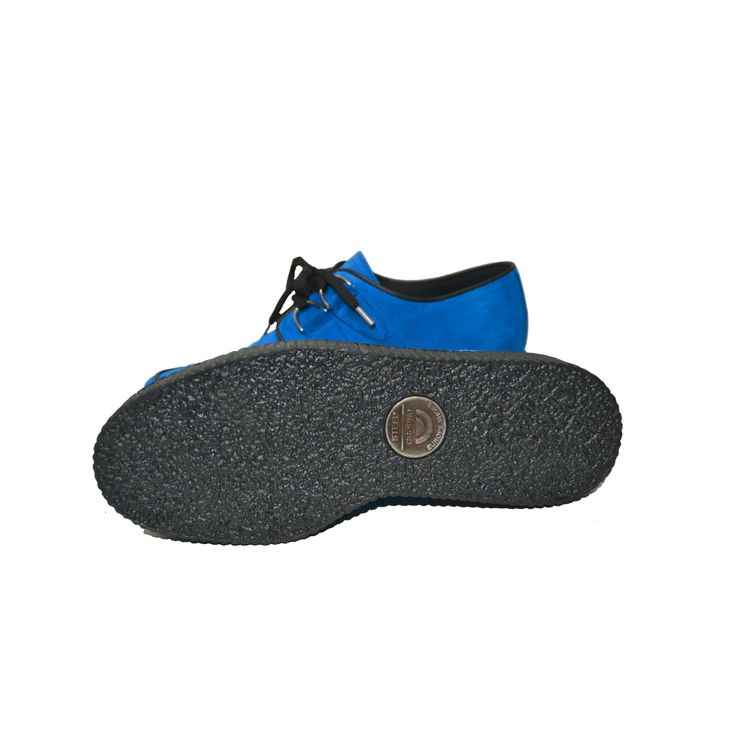gamuza: (249, 247, 533, 352)
